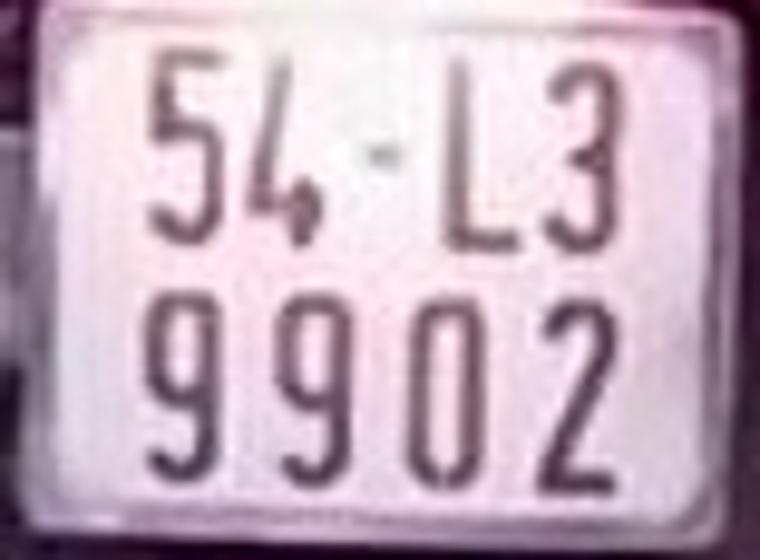-: (364, 146, 405, 162)
0: (408, 297, 482, 489)
2: (542, 299, 614, 494)
3: (542, 67, 617, 252)
4: (255, 57, 317, 251)
5: (150, 45, 222, 249)
9: (278, 293, 351, 486), (147, 296, 219, 483)
L: (443, 61, 519, 255)
